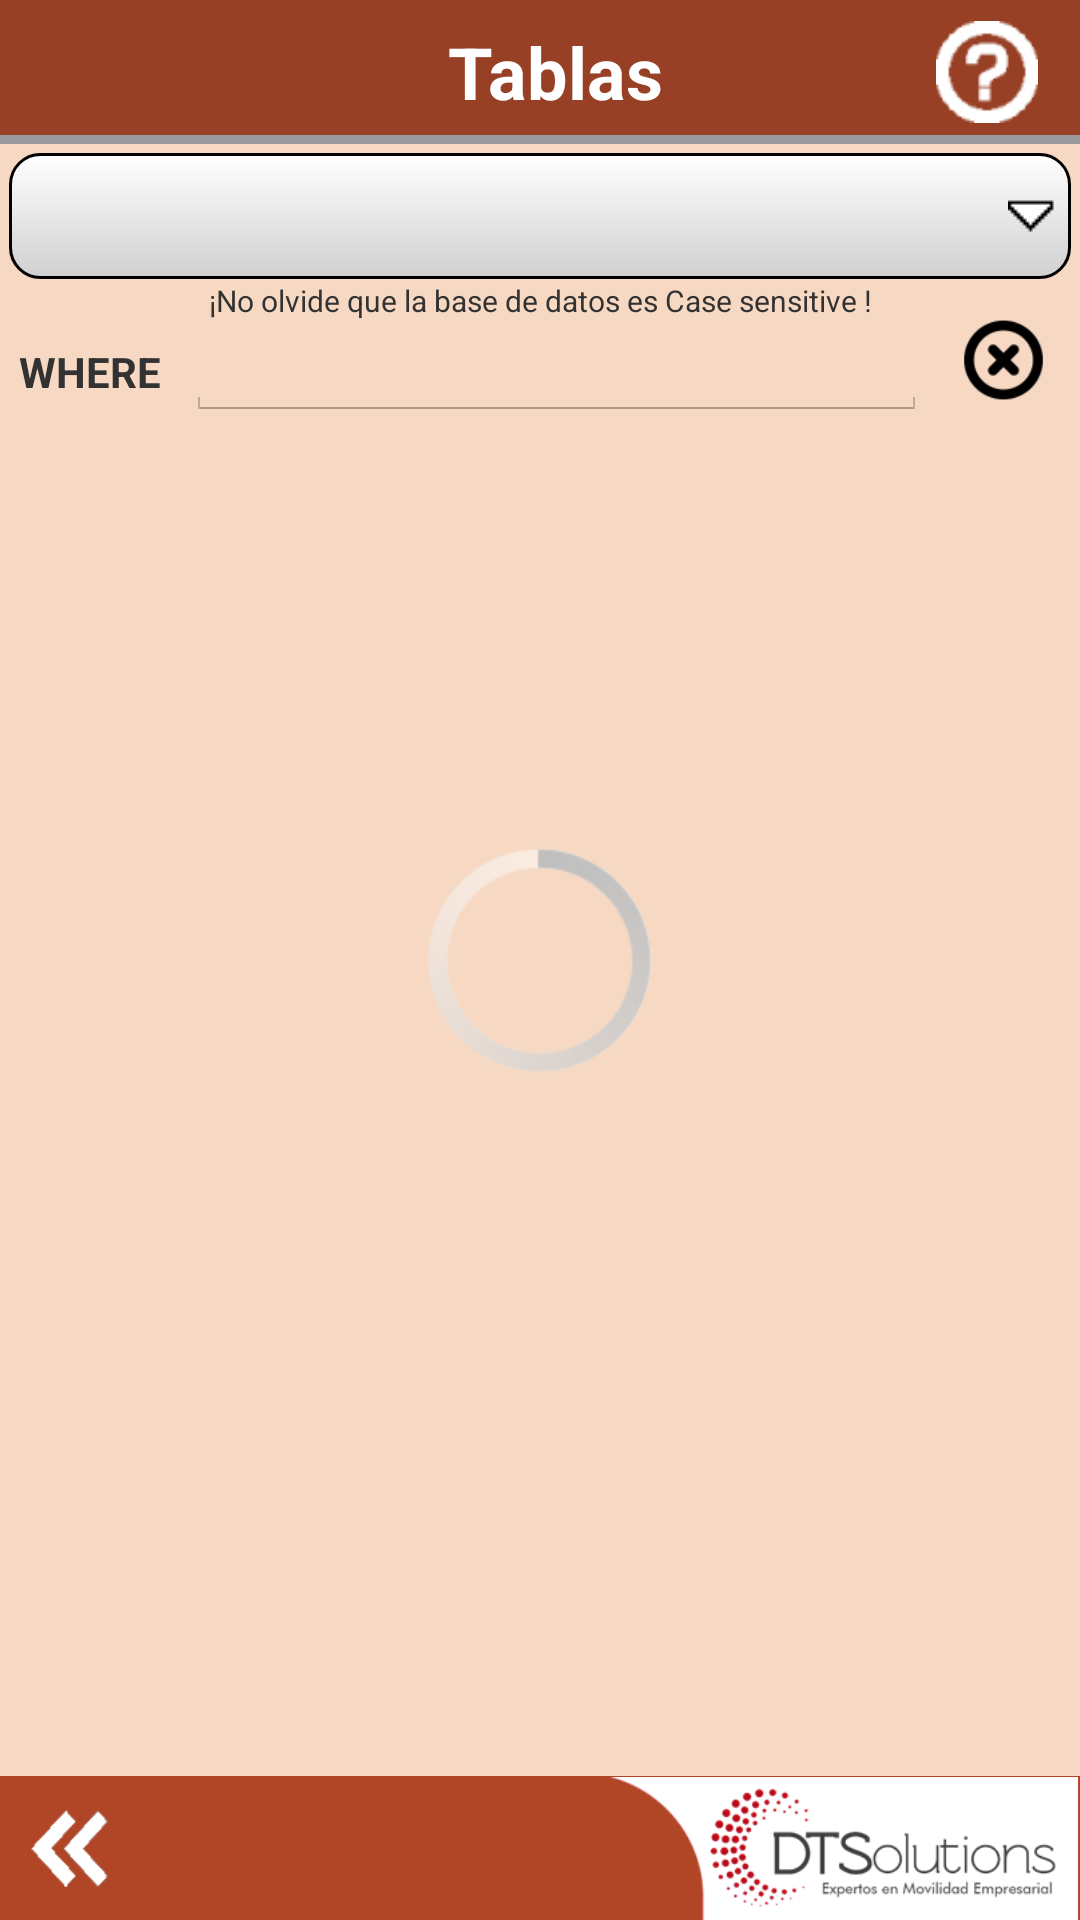

Point at icon controls on the screen. Image size 1080x1920, points as (x=x, y=y).
arr prev: (x=69, y=1848)
clear: (x=1003, y=360)
help: (x=987, y=72)
